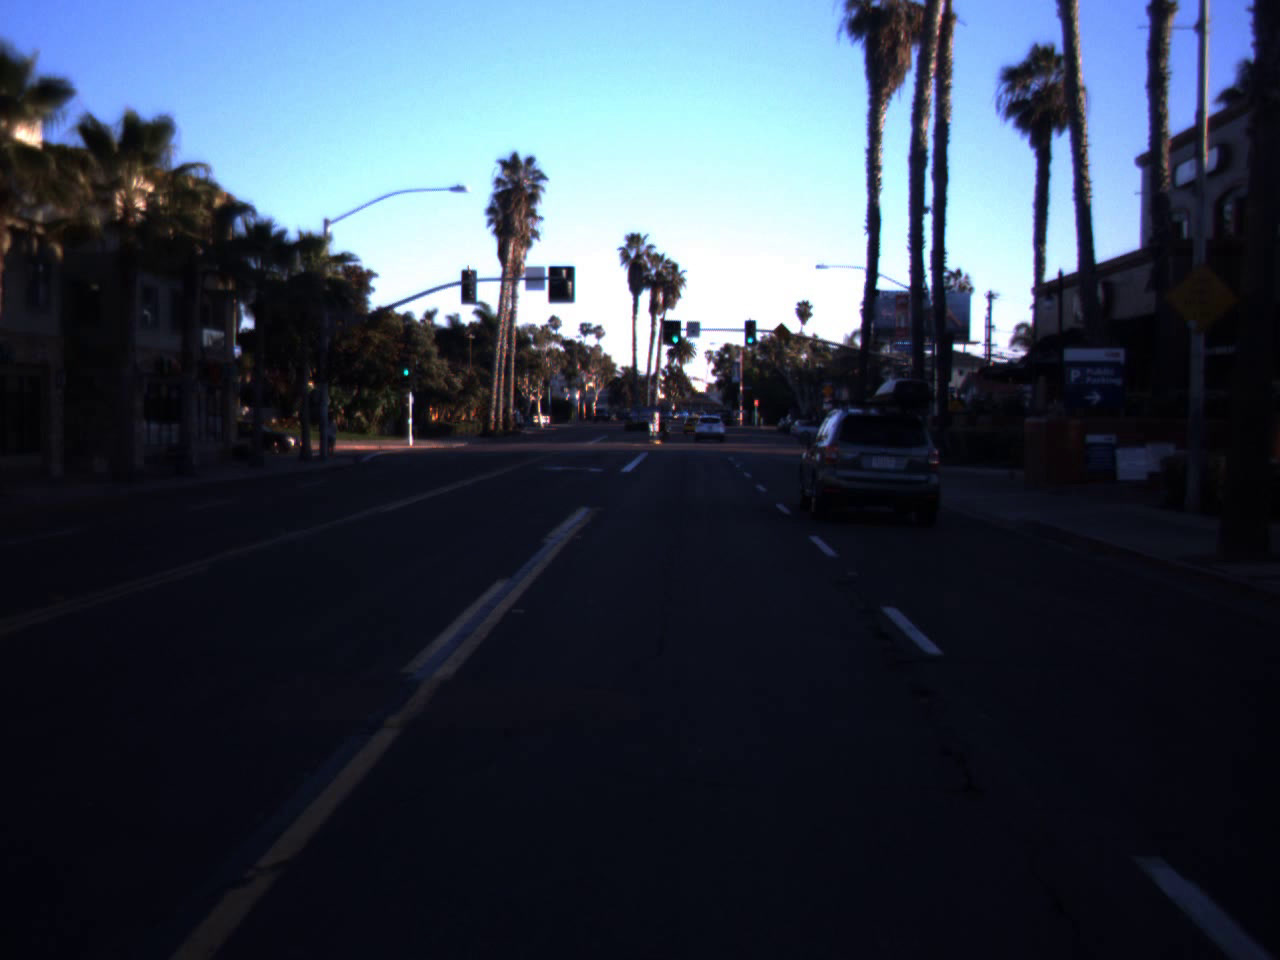go: (400, 352, 412, 377), (670, 319, 682, 344), (744, 324, 756, 344)
